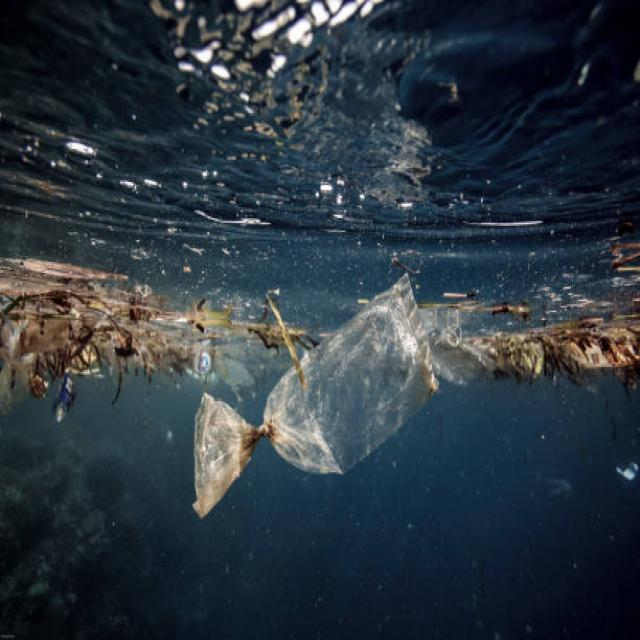plastic: (188, 307, 442, 441)
